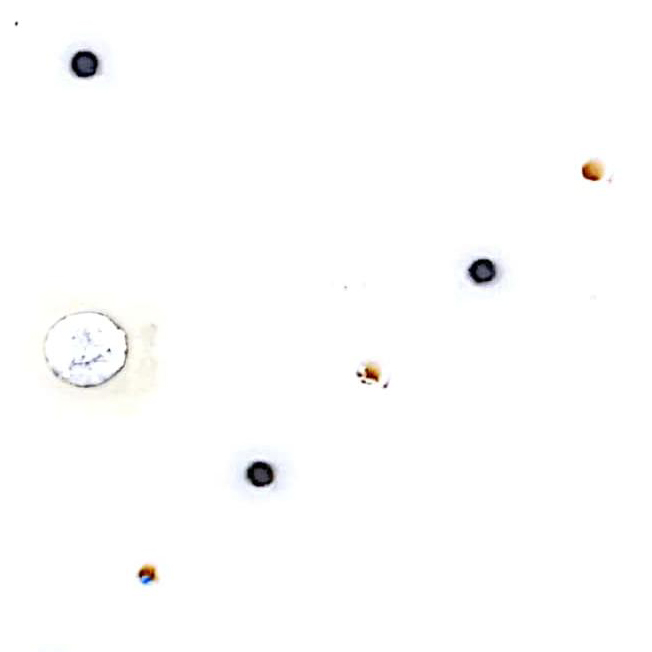abnormal: (25, 286, 169, 414)
cancer: (224, 427, 301, 511), (454, 225, 524, 302), (47, 42, 126, 96)
normal: (339, 352, 406, 401), (566, 146, 628, 192), (130, 554, 175, 593)
